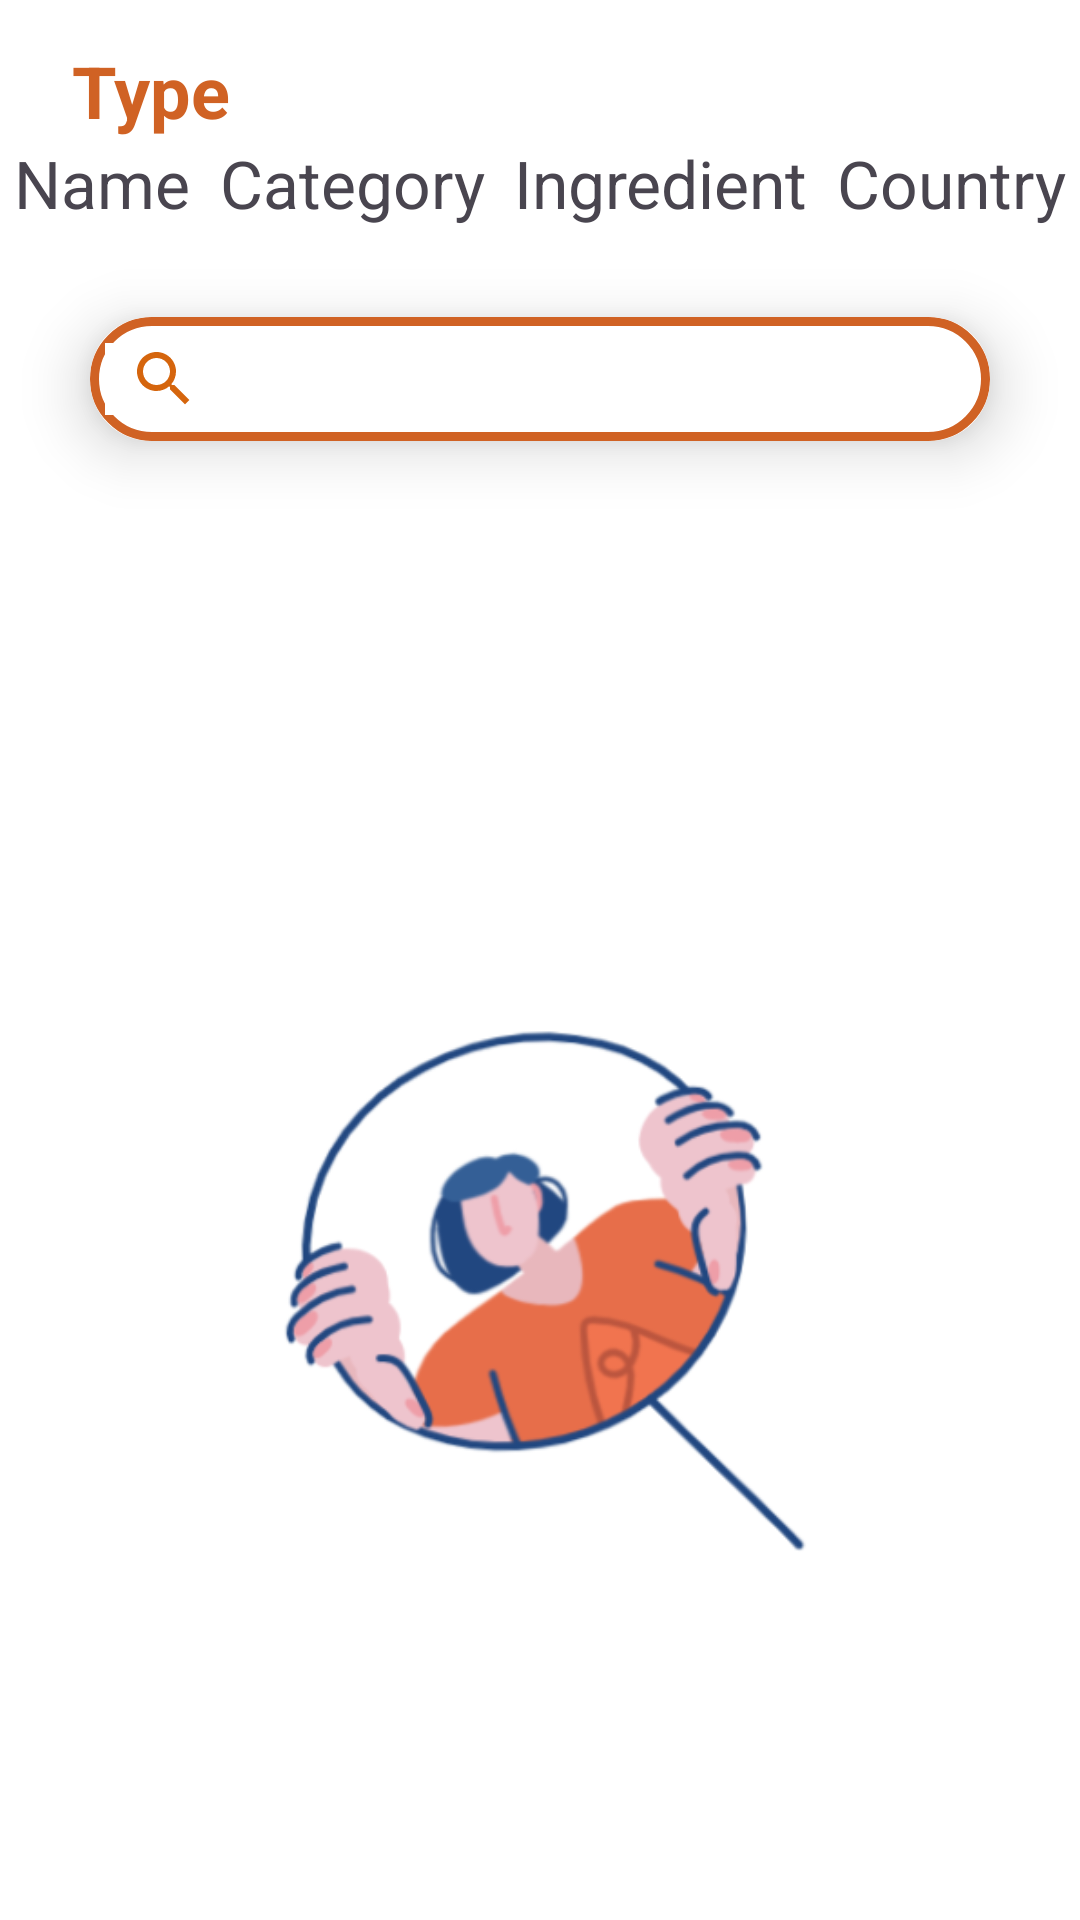

Screen size 1080 × 1920. Icon name, then its center in pixels as point (x, y):
search: point (163, 378)
